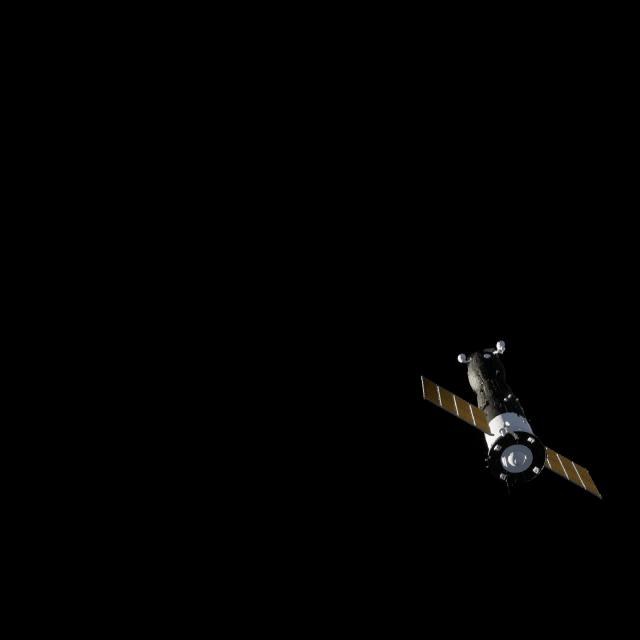Satellites revolving around earth: (418, 338, 604, 503)
